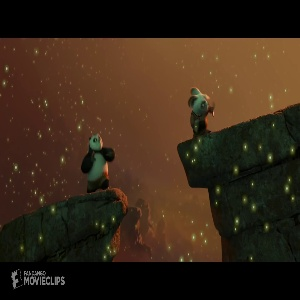po: (78, 131, 118, 193)
shifu: (184, 86, 219, 136)
